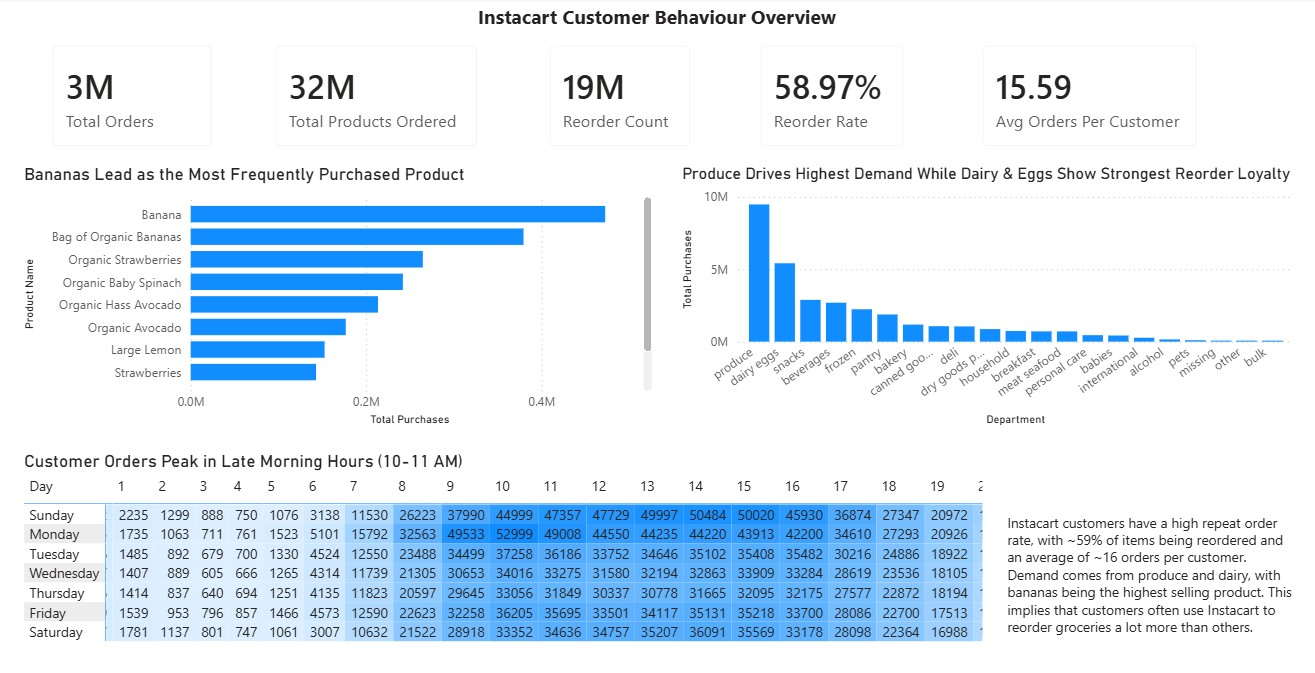

The dashboard page shown, as its layout file describes it:
{"tool":"powerbi","page":{"name":"Page 1","canvas":[1280,720],"ordinal":0},"visuals":[{"type":"cardVisual","title":"Total Orders","fields":{"Data":["Sum(orders_by_day_hour.total_orders)"]},"box":[34.8,28.9,189.1,132.4],"z":0},{"type":"cardVisual","title":"Total Products Ordered","fields":{"Data":["Sum(department_summary.total_orders)"]},"box":[251.8,28.9,230.9,132.4],"z":1000},{"type":"cardVisual","title":"Reorder Count","fields":{"Data":["Sum(department_summary.reorder_count)"]},"box":[518.6,28.9,171.2,132.4],"z":2000},{"type":"cardVisual","title":"Reorder Rate","fields":{"Data":["department_summary.Reorder Rate"]},"box":[723.6,28.9,173.2,132.4],"z":3000},{"type":"pivotTable","title":"Customer Orders Peak in Late Morning Hours (10-11 AM)","fields":{"Columns":["orders_by_day_hour.order_hour_of_day"],"Values":["Sum(orders_by_day_hour.total_orders)"],"Rows":["orders_by_day_hour.Day_Name"]},"box":[19.5,440.6,942.5,258.7],"z":4000},{"type":"clusteredColumnChart","title":"Produce Drives Highest Demand While Dairy & Eggs Show Strongest Reorder Loyalty","fields":{"Category":["department_summary.department"],"Y":["Sum(department_summary.total_orders)"]},"box":[659.9,161.2,604.2,258.8],"z":5000},{"type":"barChart","title":"Bananas Lead as the Most Frequently Purchased Product","fields":{"Category":["product_summary.product_name"],"Y":["Sum(product_summary.total_orders)"]},"box":[19.5,161.5,620.5,258.7],"z":6000},{"type":"textbox","box":[422,0,436,35.8],"z":7000},{"type":"textbox","box":[975.6,496,287.9,146.9],"z":8000},{"type":"cardVisual","fields":{"Data":["department_summary.Avg Orders Per Customer"]},"box":[939.6,28.9,242.9,132.4],"z":9000}]}

Visuals, with their boxes on the page's 1280x720 design canvas (x1, y1, x2, y2). These are canvas units, not pixel positions in the 1315x673 screenshot, which may show the page scaled, cropped or inside an application window:
"Total Orders" cardVisual: select_region(35, 29, 224, 161)
"Total Products Ordered" cardVisual: select_region(252, 29, 483, 161)
"Reorder Count" cardVisual: select_region(519, 29, 690, 161)
"Reorder Rate" cardVisual: select_region(724, 29, 897, 161)
"Customer Orders Peak in Late Morning Hours (10-11 AM)" pivotTable: select_region(20, 441, 962, 699)
"Produce Drives Highest Demand While Dairy & Eggs Show Strongest Reorder Loyalty" clusteredColumnChart: select_region(660, 161, 1264, 420)
"Bananas Lead as the Most Frequently Purchased Product" barChart: select_region(20, 162, 640, 420)
textbox: select_region(422, 0, 858, 36)
textbox: select_region(976, 496, 1264, 643)
cardVisual - department_summary.Avg Orders Per Customer: select_region(940, 29, 1182, 161)
